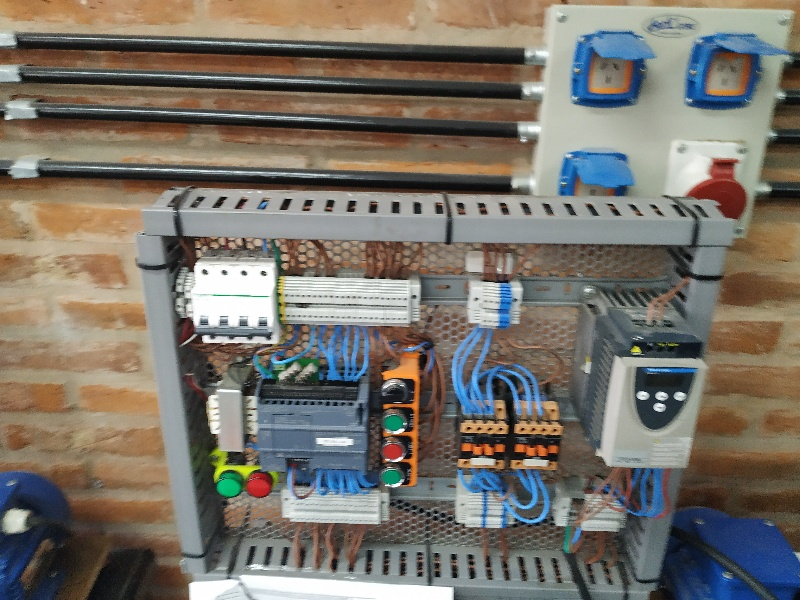Tablero 4: (161, 232, 705, 591)
